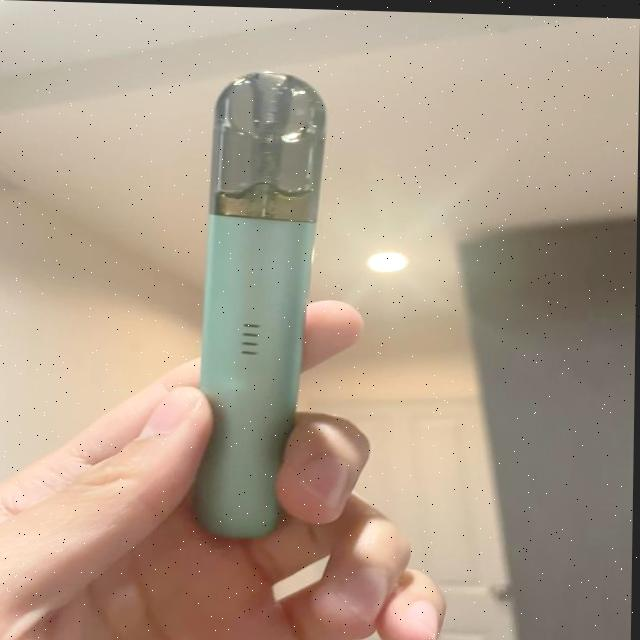vape: (191, 63, 326, 545)
